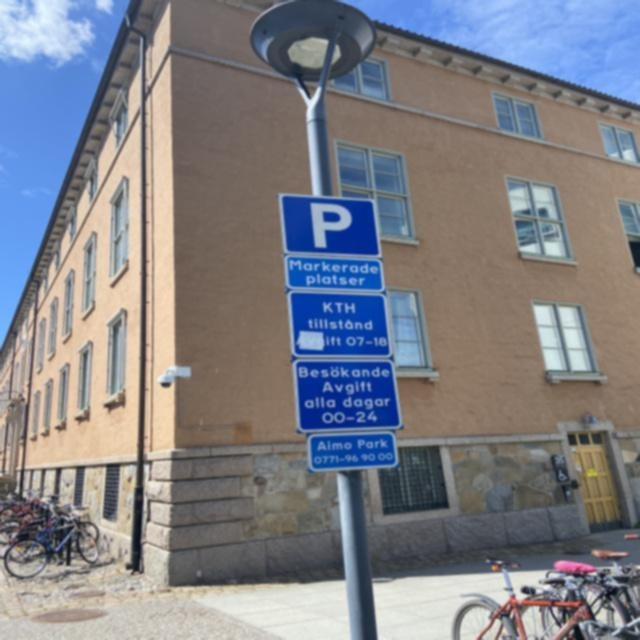P-skylt: (276, 192, 384, 257)
